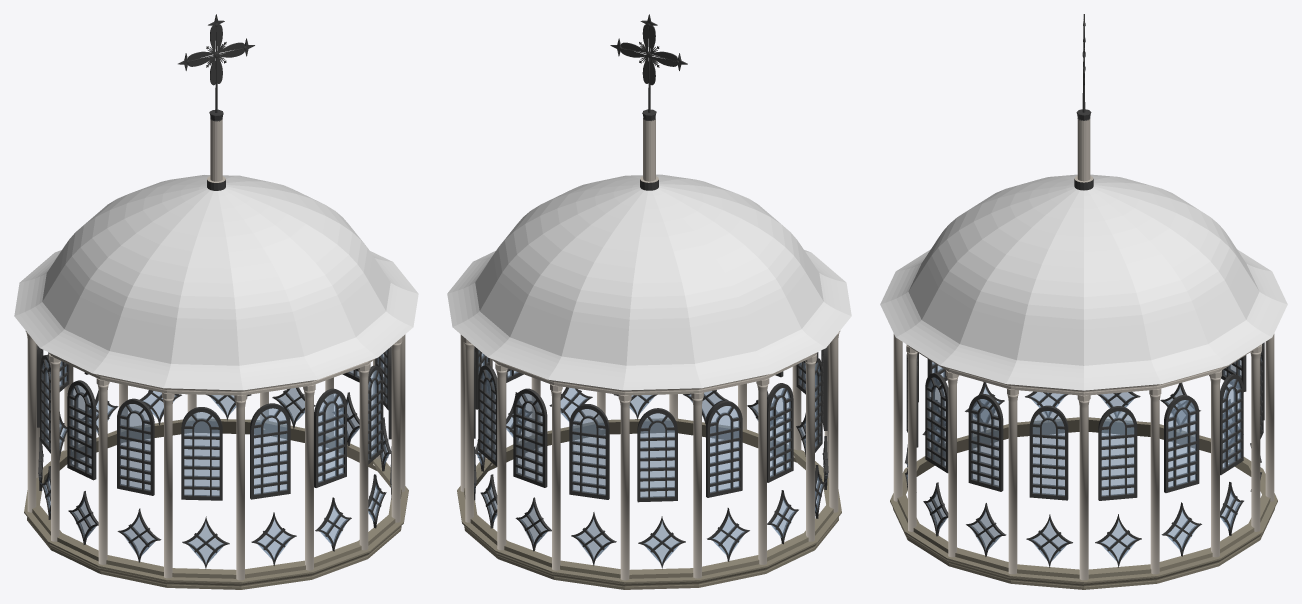
Rendered from Dome.fbx.
3 views of the same model, side by side, from view 1: azimuth 30°, elevation 25°; view 2: azimuth 150°, elevation 25°; view 3: azimuth 270°, elevation 25° (orthographic).
Parts seen in each view (by area): view 1: dome_roof, tall_dome_windows, dome_columns, dome_block_impost, diamond_windows, dome_roof_impost, curved_detials; view 2: dome_roof, tall_dome_windows, dome_columns, dome_block_impost, diamond_windows, dome_roof_impost, curved_detials; view 3: dome_roof, tall_dome_windows, dome_columns, dome_block_impost, diamond_windows, dome_roof_impost.
Part boxes in pixels (x1,y1,x2,y2): dome_roof: [14, 119, 418, 390]; tall_dome_windows: [37, 345, 391, 500]; dome_columns: [25, 331, 405, 580]; dome_block_impost: [24, 418, 408, 589]; diamond_windows: [38, 387, 391, 569]; dome_roof_impost: [48, 352, 374, 395]; curved_detials: [188, 24, 244, 85]; dome_roof: [447, 118, 851, 390]; tall_dome_windows: [474, 346, 827, 502]; dome_columns: [460, 331, 840, 580]; dome_block_impost: [457, 418, 841, 589]; diamond_windows: [474, 387, 828, 569]; dome_roof_impost: [491, 352, 817, 395]; curved_detials: [620, 24, 677, 85]; dome_roof: [880, 119, 1287, 390]; tall_dome_windows: [906, 342, 1264, 500]; dome_columns: [893, 334, 1274, 580]; dome_block_impost: [890, 417, 1277, 589]; diamond_windows: [905, 382, 1261, 567]; dome_roof_impost: [907, 345, 1260, 395].
Bounding box in the file's own units: 823 × 1106 × 823.
